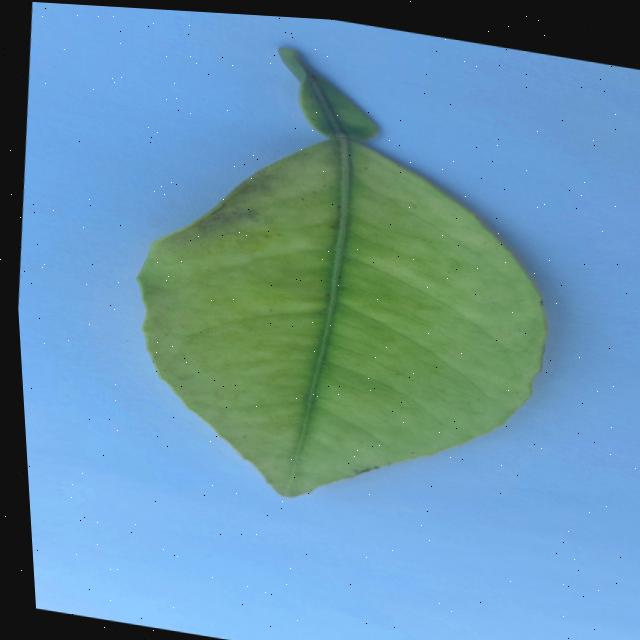greening: (140, 51, 545, 496)
